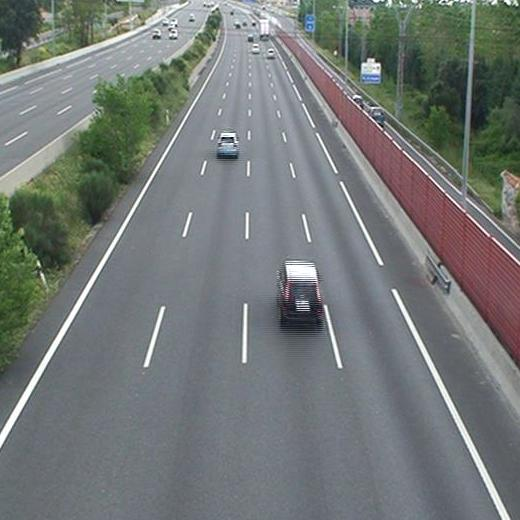car: (278, 262, 323, 321), (217, 134, 238, 156), (252, 42, 259, 55), (266, 49, 274, 58)
truck: (259, 19, 270, 38)
